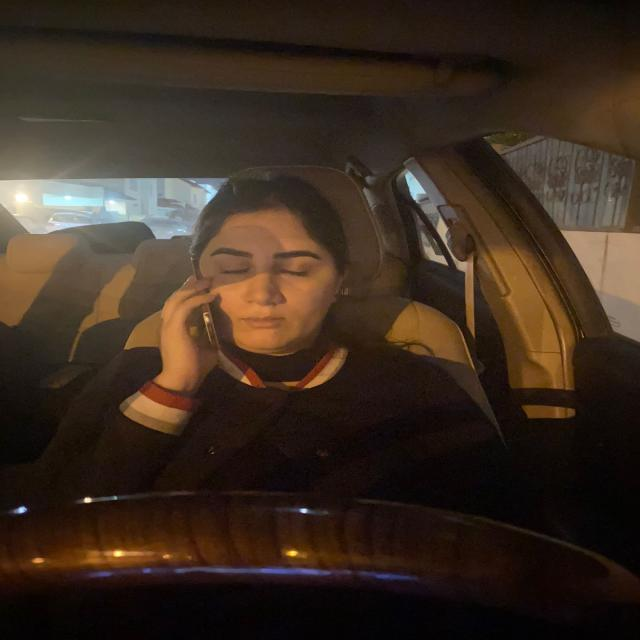phone: (188, 251, 222, 350)
